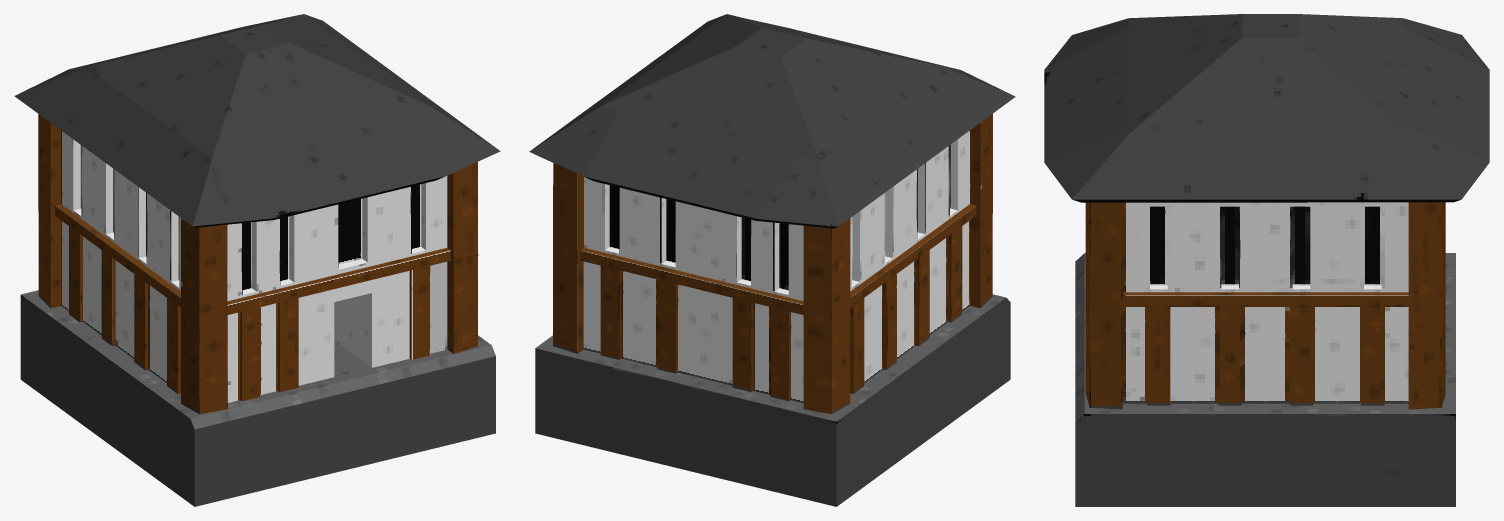
File: GermanHouse3.glb
3 views of the same model, side by side, from view 1: azimuth 30°, elevation 25°; view 2: azimuth 150°, elevation 25°; view 3: azimuth 270°, elevation 25° (orthographic). The views are drawn at different scales.
Parts seen in each view (by area): view 1: Plane; view 2: Plane; view 3: Plane.
Boxes of the visible parts, bbox=[...] form: Plane: bbox=[14, 14, 500, 506]; Plane: bbox=[529, 14, 1015, 506]; Plane: bbox=[1044, 14, 1489, 506].
Bounding box in the file's own units: 12.25 × 13.87 × 13.99.
Materials: 1 (1 with a texture image).
